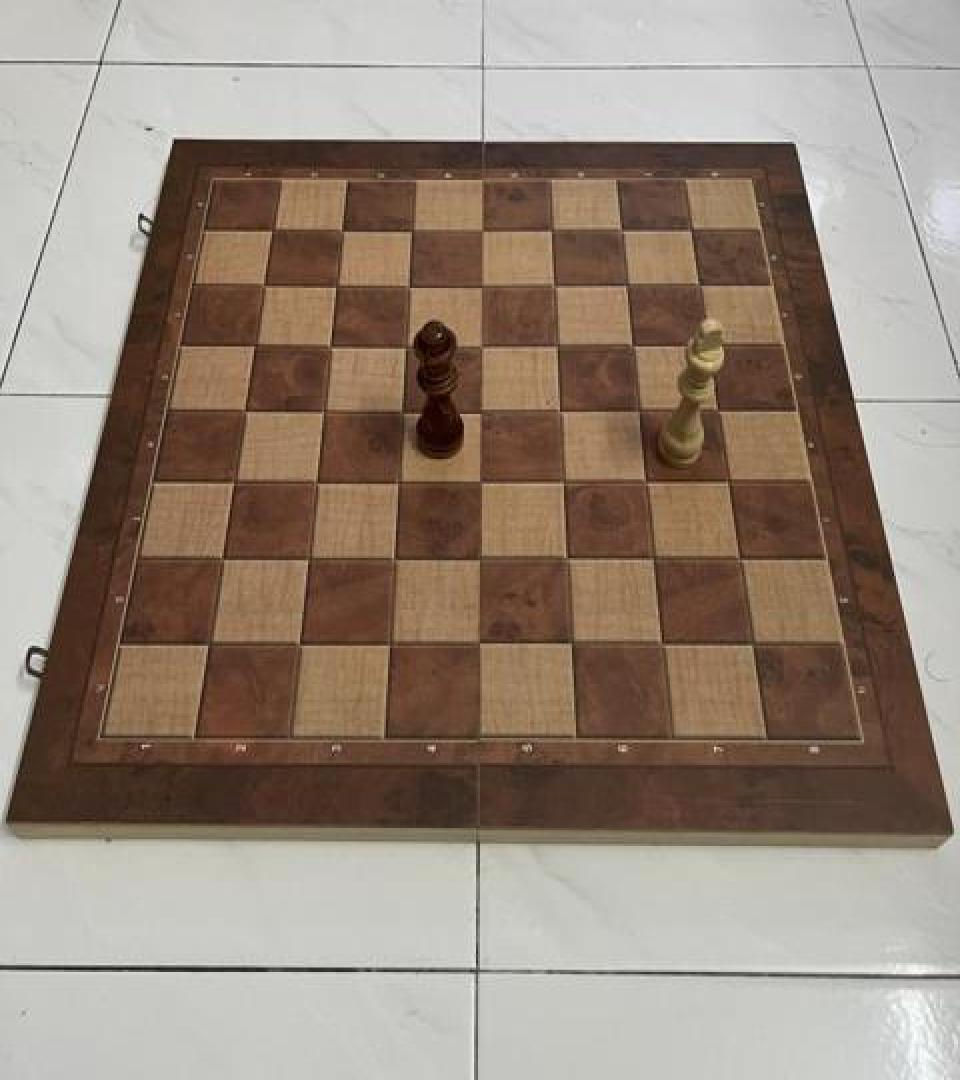xcorner: (731, 625, 763, 662), (640, 625, 672, 662), (550, 625, 582, 662), (460, 625, 492, 662), (371, 625, 403, 662), (282, 625, 314, 662), (193, 624, 225, 661), (674, 209, 706, 245), (604, 209, 636, 245), (534, 210, 566, 246), (464, 210, 496, 246), (394, 210, 426, 246), (325, 212, 357, 248), (255, 212, 287, 248), (682, 266, 714, 302), (609, 266, 641, 302), (536, 266, 568, 302), (247, 268, 279, 304), (690, 325, 722, 361), (614, 326, 646, 362), (539, 326, 571, 362), (463, 326, 495, 362), (388, 328, 420, 364), (313, 328, 345, 364), (238, 328, 270, 364), (699, 392, 731, 428), (620, 392, 652, 428), (541, 392, 573, 428), (462, 392, 494, 428), (384, 392, 416, 428), (306, 392, 338, 428), (228, 392, 260, 428), (709, 462, 741, 498), (626, 462, 658, 498), (544, 462, 576, 498), (462, 464, 494, 500), (380, 464, 412, 500), (298, 464, 330, 500), (217, 464, 249, 500), (719, 540, 751, 576), (633, 540, 665, 576), (547, 540, 579, 576), (461, 540, 493, 576), (376, 540, 408, 576), (290, 540, 322, 576), (205, 540, 237, 576), (464, 267, 496, 302), (391, 267, 423, 302), (319, 267, 351, 302)
